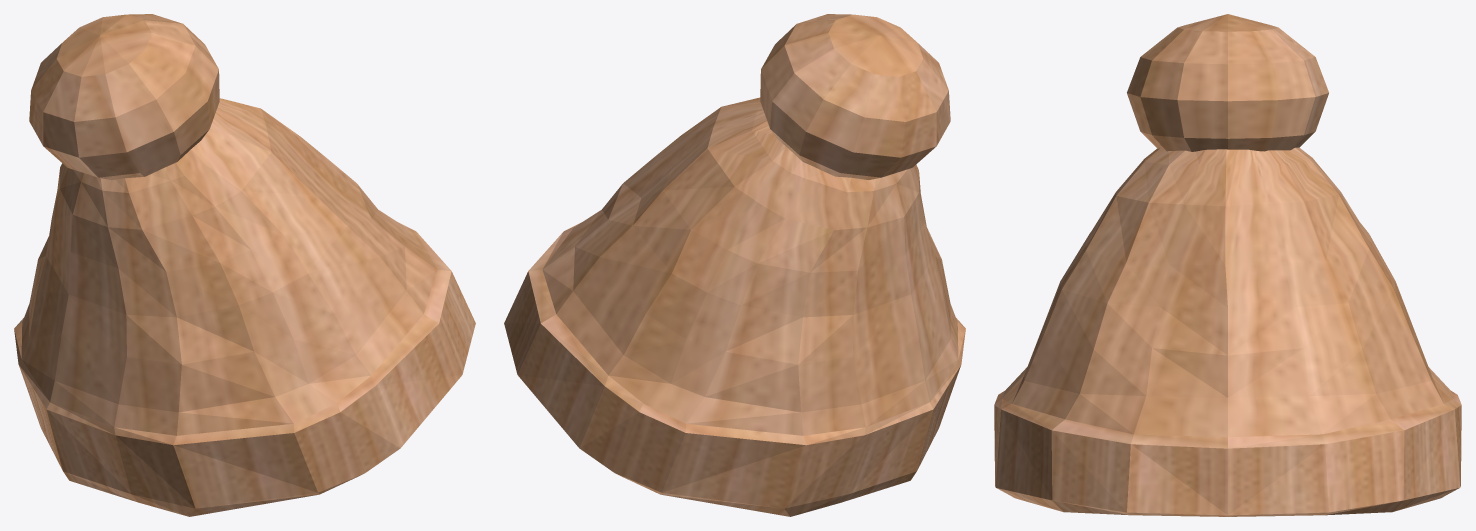
Rendered from ORANGE POMPOM HAT.fbx.
The picture shows the model from 3 angles, left to right: view 1: azimuth 30°, elevation 25°; view 2: azimuth 150°, elevation 25°; view 3: azimuth 270°, elevation 25°; orthographic projection.
Parts seen in each view (by area): view 1: ORANGE_POMPOM_HAT; view 2: ORANGE_POMPOM_HAT; view 3: ORANGE_POMPOM_HAT.
Boxes of the visible parts, x1=… form: ORANGE_POMPOM_HAT: x1=14, y1=14, x2=475, y2=516; ORANGE_POMPOM_HAT: x1=504, y1=14, x2=965, y2=516; ORANGE_POMPOM_HAT: x1=994, y1=14, x2=1461, y2=516.
Bounding box in the file's own units: 30.52 × 33.2 × 31.29.
